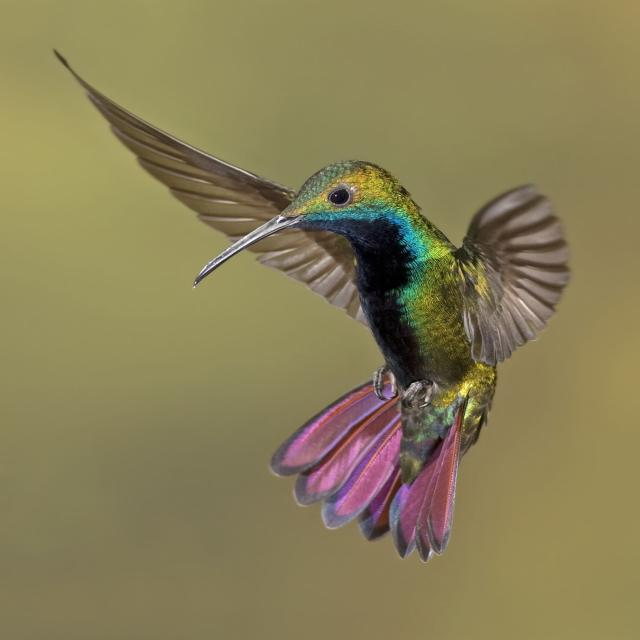Humming Bird: (102, 110, 557, 560)
